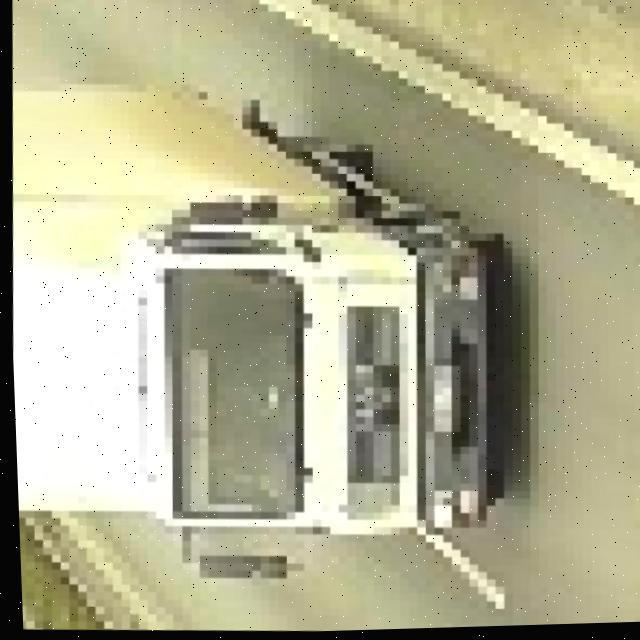truck: (2, 80, 532, 601)
